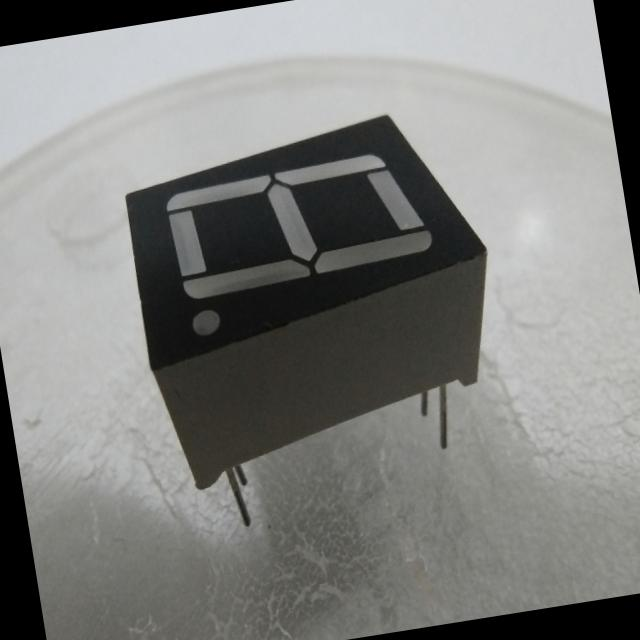7_segments: (98, 86, 540, 548)
